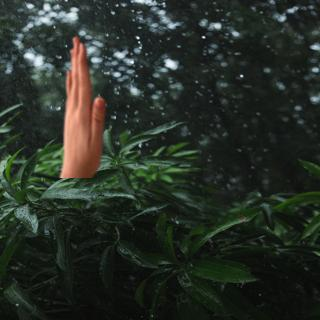Right: (54, 23, 110, 167)
